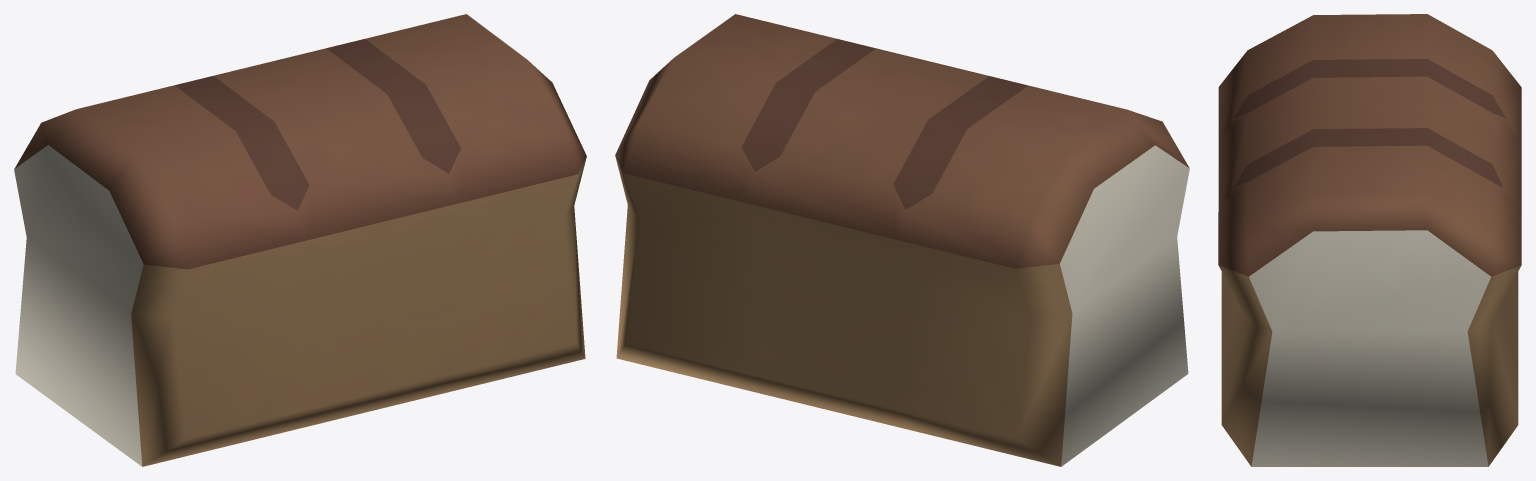
Rendered from toast_loaf.fbx.
3 renders of one model, left to right at view 1: azimuth 30°, elevation 25°; view 2: azimuth 150°, elevation 25°; view 3: azimuth 270°, elevation 25°, orthographic. The views are drawn at different scales.
Parts seen in each view (by area): view 1: toast_loaf; view 2: toast_loaf; view 3: toast_loaf.
Boxes of the visible parts, left/top/right/bottom form: toast_loaf: left=14, top=14, right=586, bottom=466; toast_loaf: left=615, top=14, right=1189, bottom=466; toast_loaf: left=1218, top=14, right=1521, bottom=466.
Bounding box in the file's own units: 48.91 × 29.73 × 30.99.
